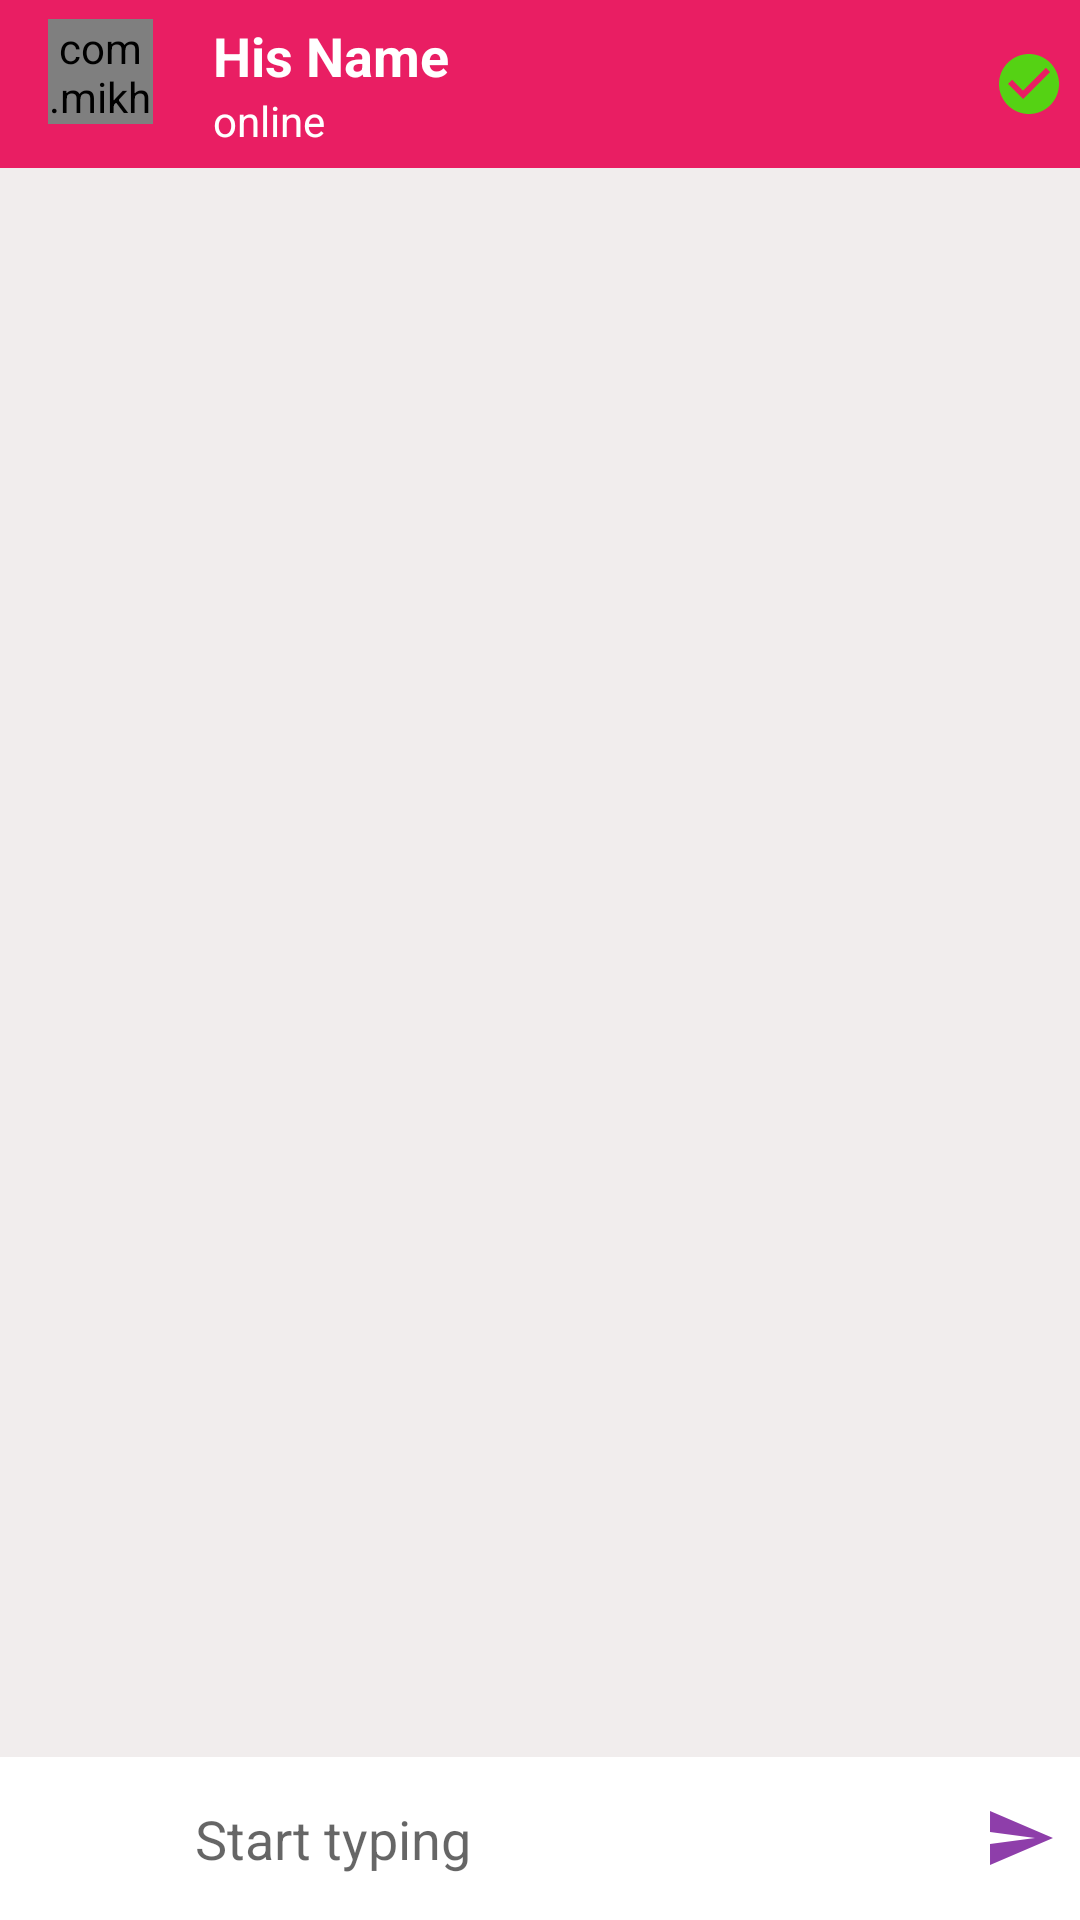

Icons on this 1080x1920 Android screen, each with the point to tap as (x=x, y=y):
send: (x=1021, y=1838)
unblocked: (x=1029, y=84)
